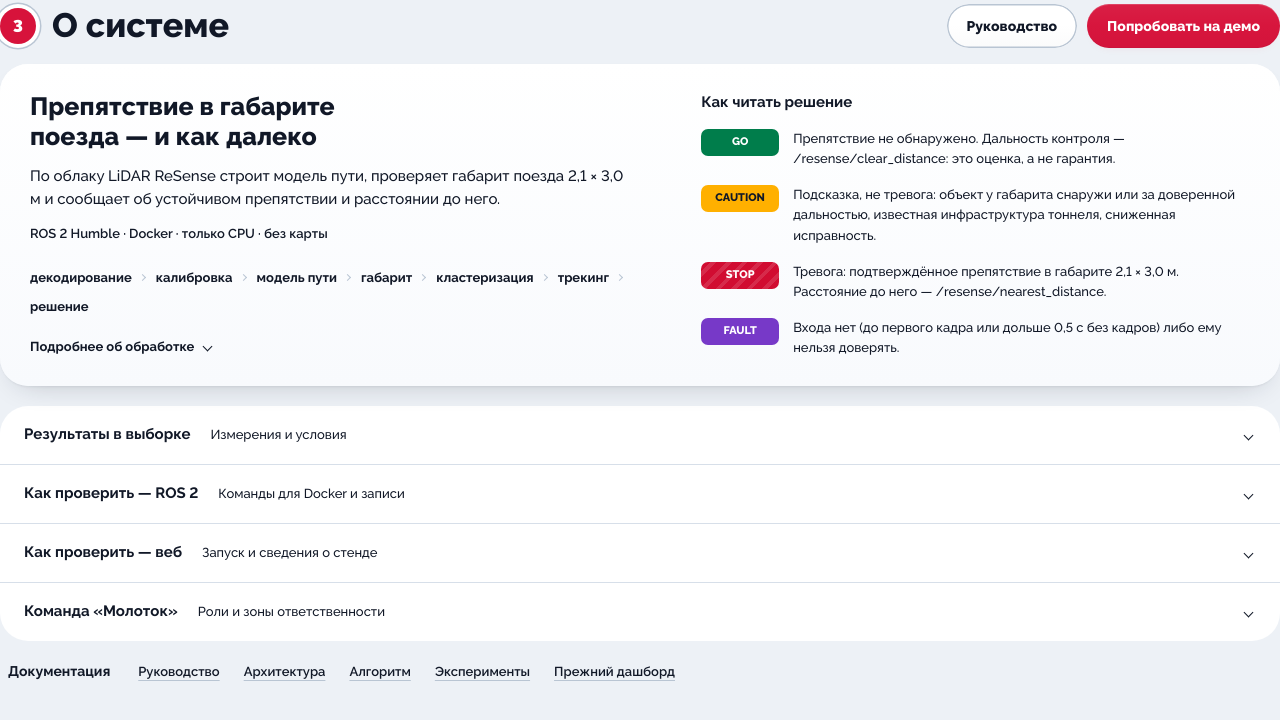
Test: О системе › puts the measurements and their complete conditions in one disclosure
Click the heading "Результаты в выборке Измерения и условия" at (185, 434), box [24, 425, 347, 443]
(page scrolled)
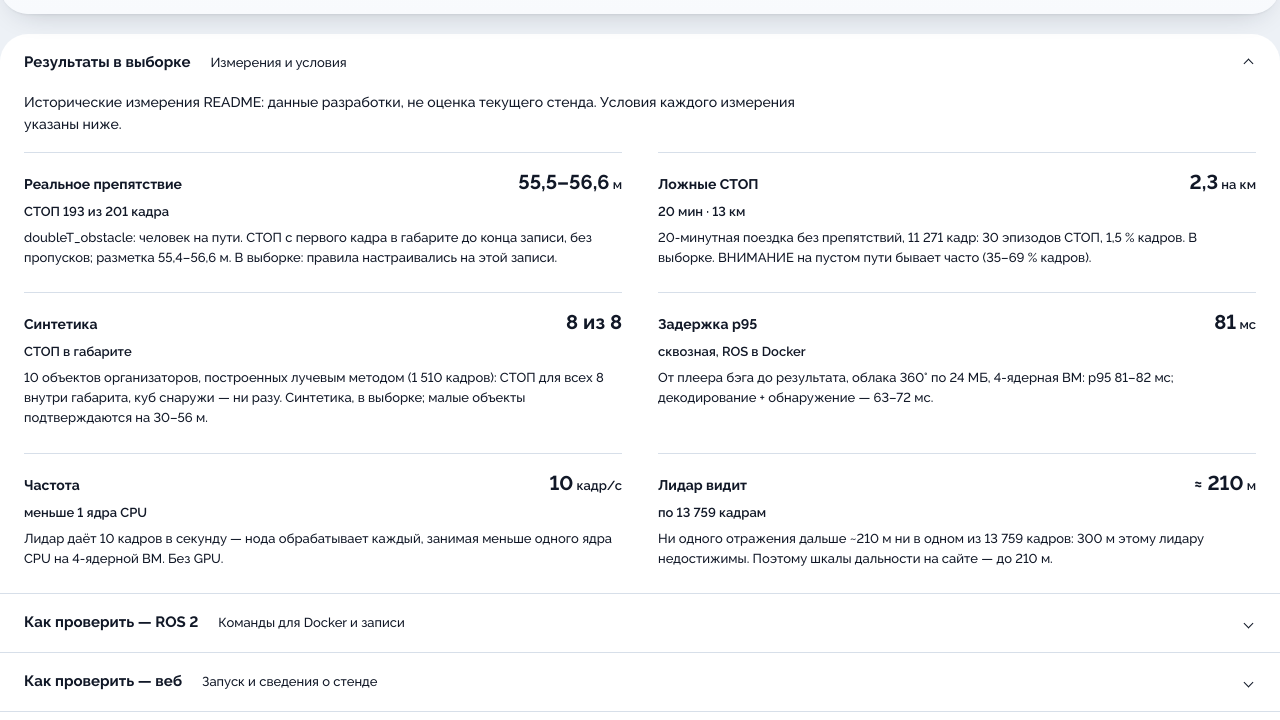
Expected: the list named "Результаты в выборке" shows "55,5–56,6", [518, 170, 609, 194]
Expected: the list named "Результаты в выборке" shows "2,3", [1190, 170, 1218, 194]
Expected: the list named "Результаты в выборке" shows "8 из 8", [566, 310, 622, 334]
